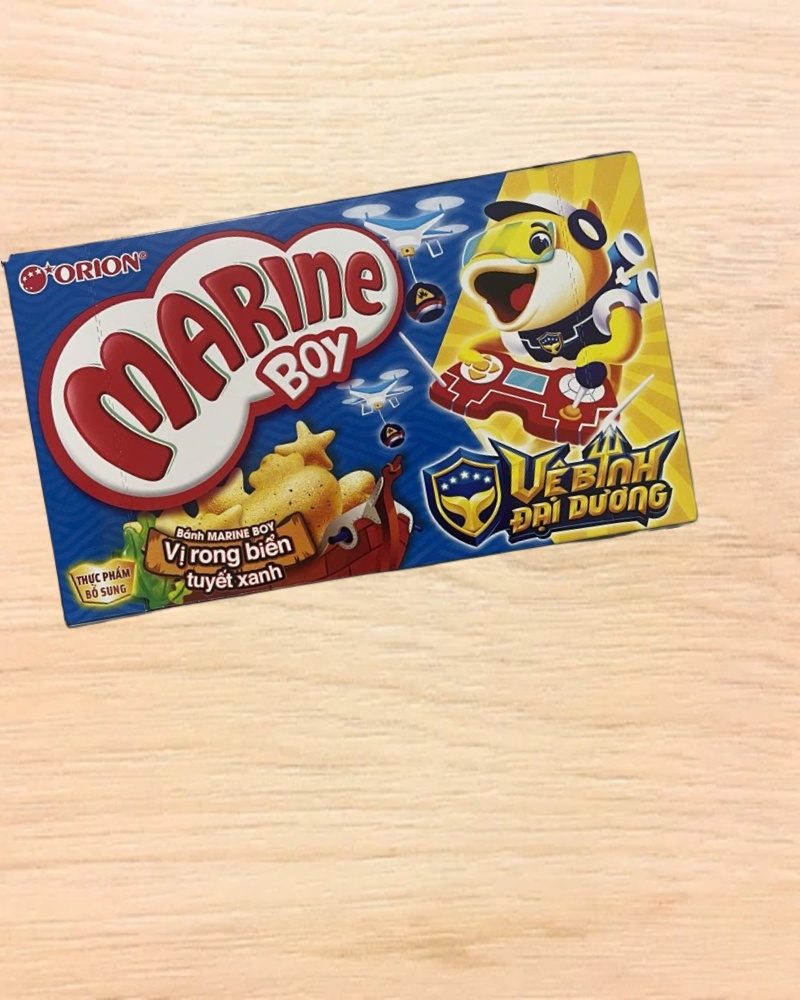Marine: (3, 145, 703, 634)
